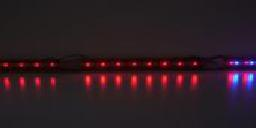LED: (2, 57, 256, 71)
